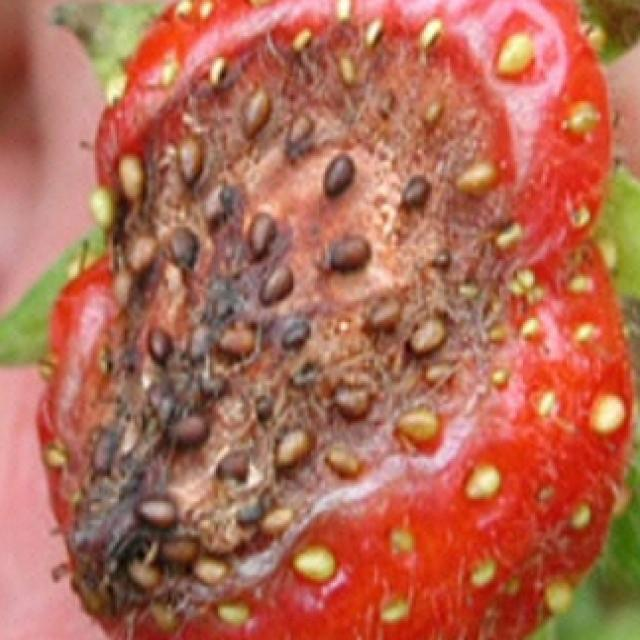Anthracnose Fruit Rot: (36, 0, 596, 640)
